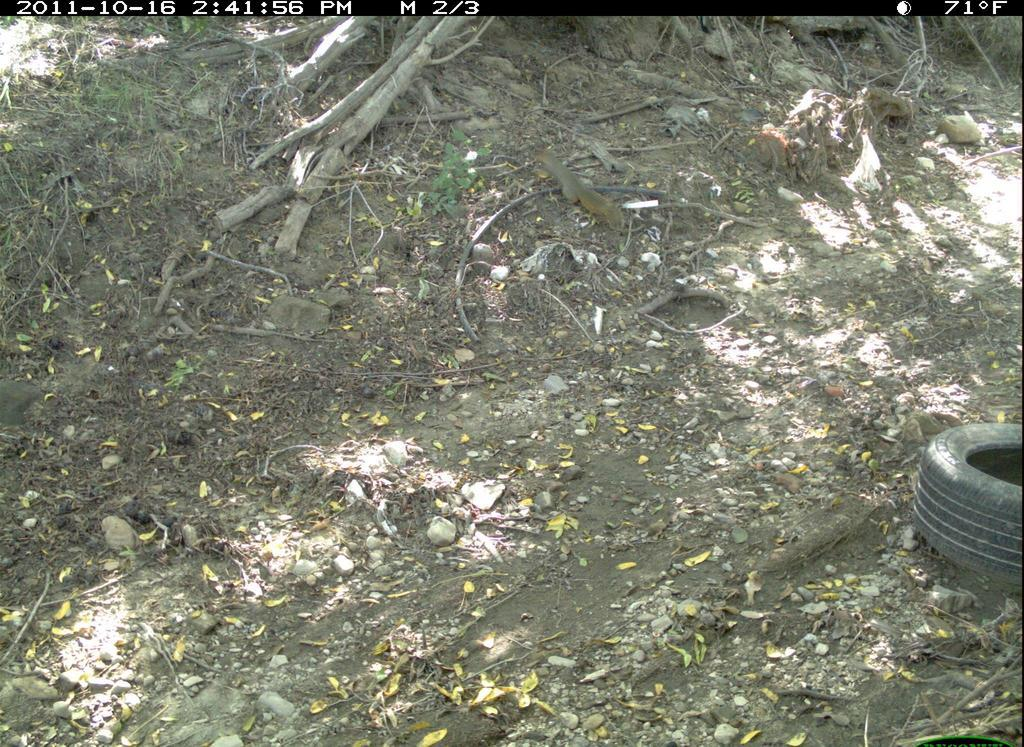squirrel: (520, 122, 651, 249)
